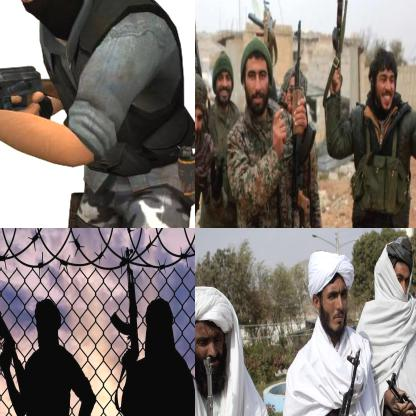rifle: (0, 63, 66, 183), (287, 17, 316, 227), (109, 250, 141, 365), (323, 344, 365, 415), (197, 354, 237, 415), (0, 261, 20, 370), (328, 0, 351, 83), (241, 0, 276, 51), (195, 0, 212, 81)
